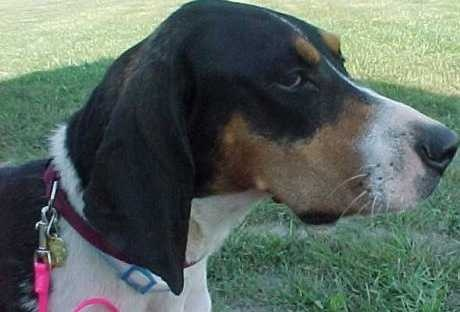Dog: (51, 0, 457, 296)
